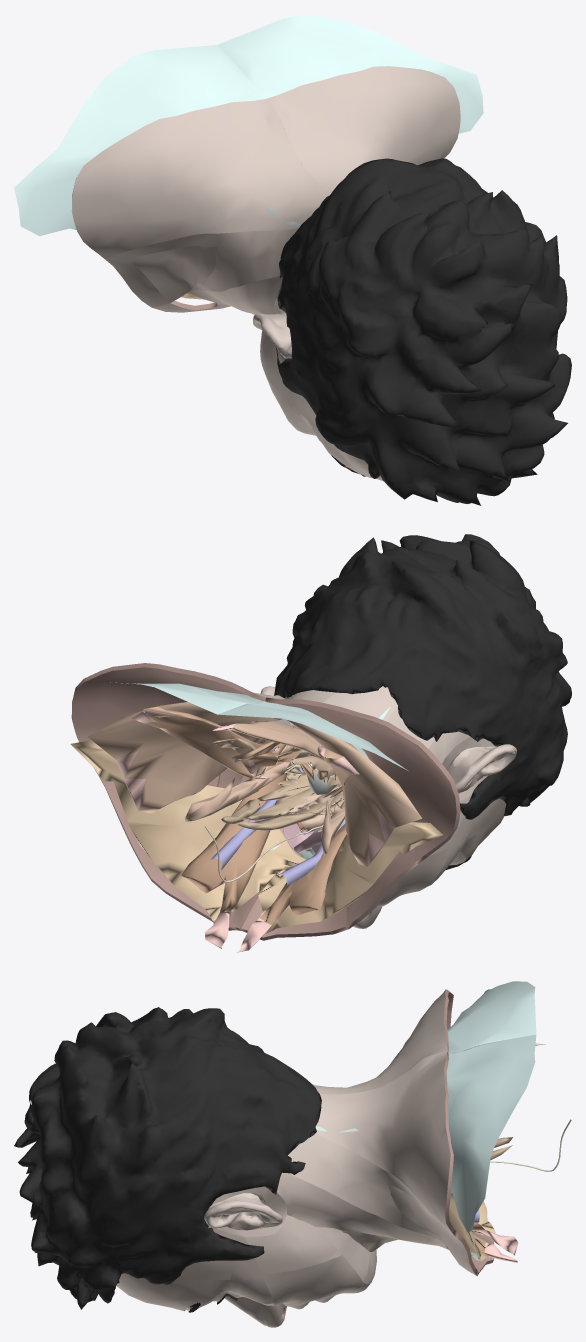
The model's file is zAnatomy-OnlyHead.glb.
3 views of the same model, one above another, from view 1: azimuth 30°, elevation 25°; view 2: azimuth 150°, elevation 25°; view 3: azimuth 270°, elevation 25° (orthographic). The views are drawn at different scales.
Parts seen in each view (by area): view 1: Head_p, Neck_p, Superficial_investing_cervical_fascia_l, Superficial_investing_cervical_fascia_r, Neck_a, Head_a; view 2: Head_p, Neck_p, Platysma_r, Ascending_part_of_trapezius_muscle_r, Ascending_part_of_trapezius_muscle_l, Platysma_l, Sternocleidomastoid_muscle_r, Neck_a, Levator_scapulae_r, Sternocleidomastoid_muscle_l, Superficial_investing_cervical_fascia_l, Superficial_investing_cervical_fascia_r (+13 smaller); view 3: Head_p, Neck_p, Neck_a, Superficial_investing_cervical_fascia_r, Superficial_investing_cervical_fascia_l, Head_a, Platysma_r, Sternocleidomastoid_muscle_l.
Boxes of the visible parts, bbox=[...] form: Head_p: bbox=[276, 158, 571, 505]; Neck_p: bbox=[72, 66, 460, 359]; Superficial_investing_cervical_fascia_l: bbox=[14, 45, 300, 236]; Superficial_investing_cervical_fascia_r: bbox=[218, 14, 483, 133]; Neck_a: bbox=[260, 331, 315, 435]; Head_a: bbox=[300, 414, 384, 481]; Head_p: bbox=[274, 534, 571, 839]; Neck_p: bbox=[71, 663, 516, 940]; Platysma_r: bbox=[70, 740, 306, 921]; Ascending_part_of_trapezius_muscle_r: bbox=[88, 702, 294, 813]; Ascending_part_of_trapezius_muscle_l: bbox=[287, 720, 421, 866]; Platysma_l: bbox=[258, 822, 442, 933]; Sternocleidomastoid_muscle_r: bbox=[181, 747, 288, 948]; Neck_a: bbox=[232, 793, 475, 932]; Levator_scapulae_r: bbox=[131, 706, 280, 779]; Sternocleidomastoid_muscle_l: bbox=[237, 824, 346, 952]; Superficial_investing_cervical_fascia_l: bbox=[218, 701, 466, 890]; Superficial_investing_cervical_fascia_r: bbox=[110, 682, 313, 859]; Head_p: bbox=[14, 1007, 321, 1309]; Neck_p: bbox=[204, 989, 494, 1276]; Neck_a: bbox=[198, 1215, 494, 1327]; Superficial_investing_cervical_fascia_r: bbox=[242, 1034, 536, 1260]; Superficial_investing_cervical_fascia_l: bbox=[447, 981, 536, 1054]; Head_a: bbox=[116, 1273, 230, 1312]; Platysma_r: bbox=[449, 1193, 494, 1260]; Sternocleidomastoid_muscle_l: bbox=[472, 1222, 518, 1255].
Size of the model in its own units: 69.54 by 48.24 by 79.05.
